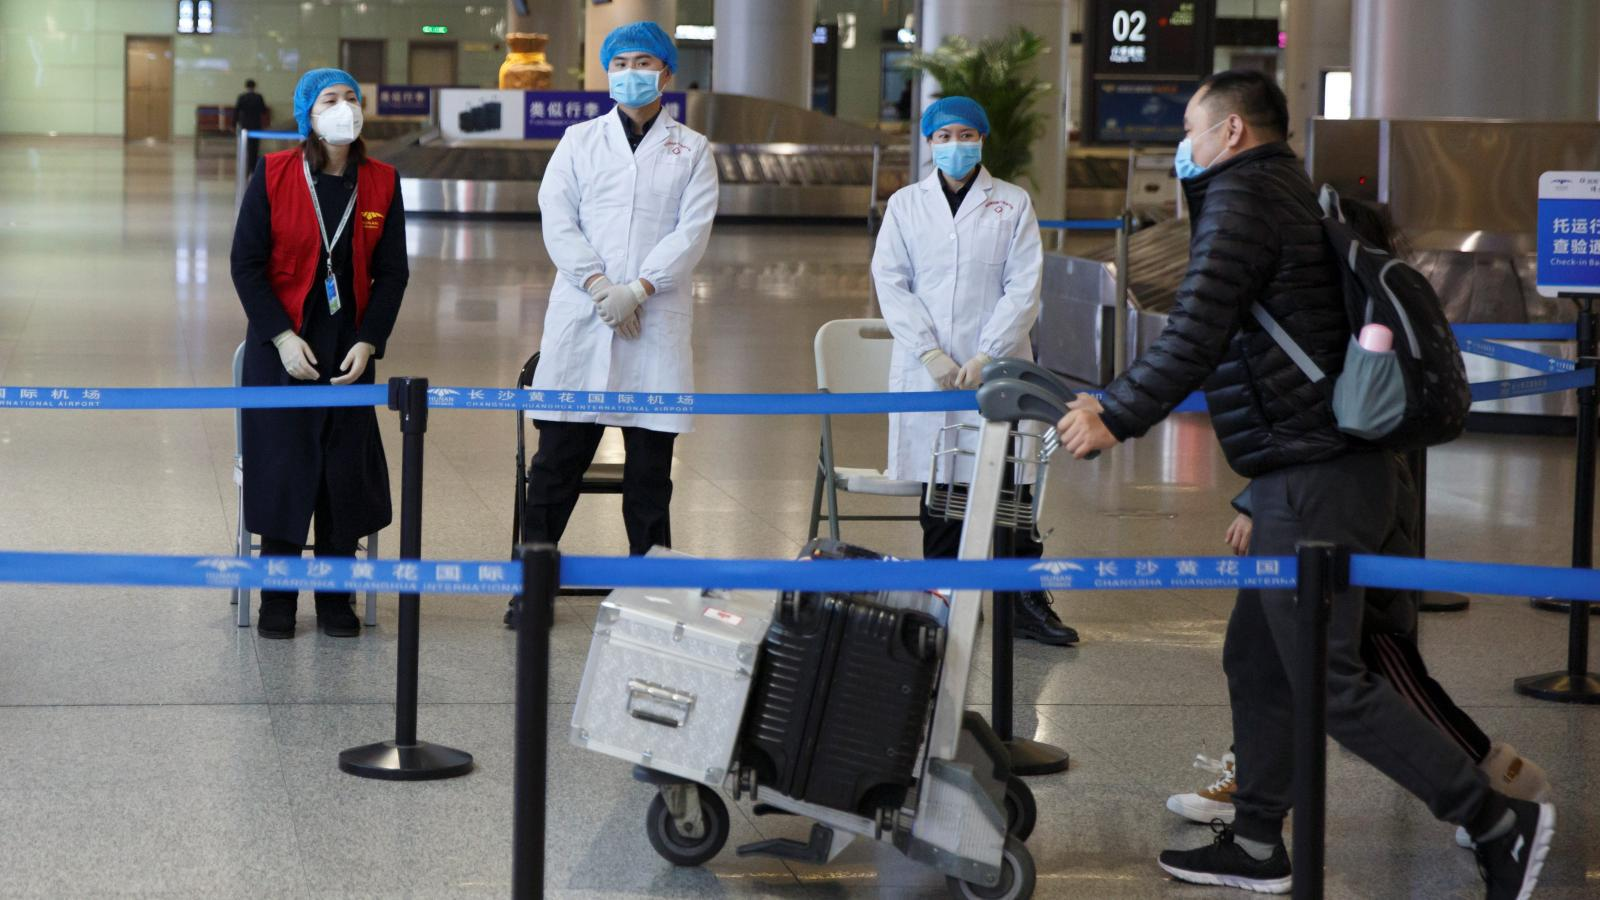mask: (309, 87, 366, 143), (608, 52, 662, 109), (1171, 112, 1214, 184), (929, 126, 982, 181)
